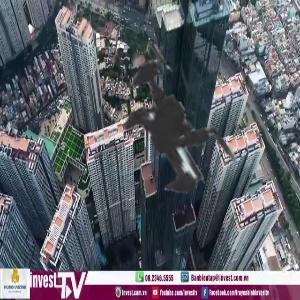drone: (28, 3, 295, 270)
